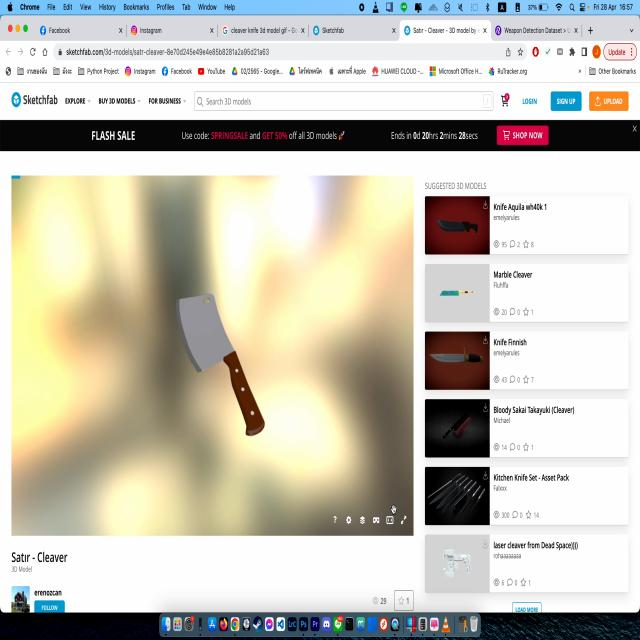cleaver: (170, 282, 279, 447)
